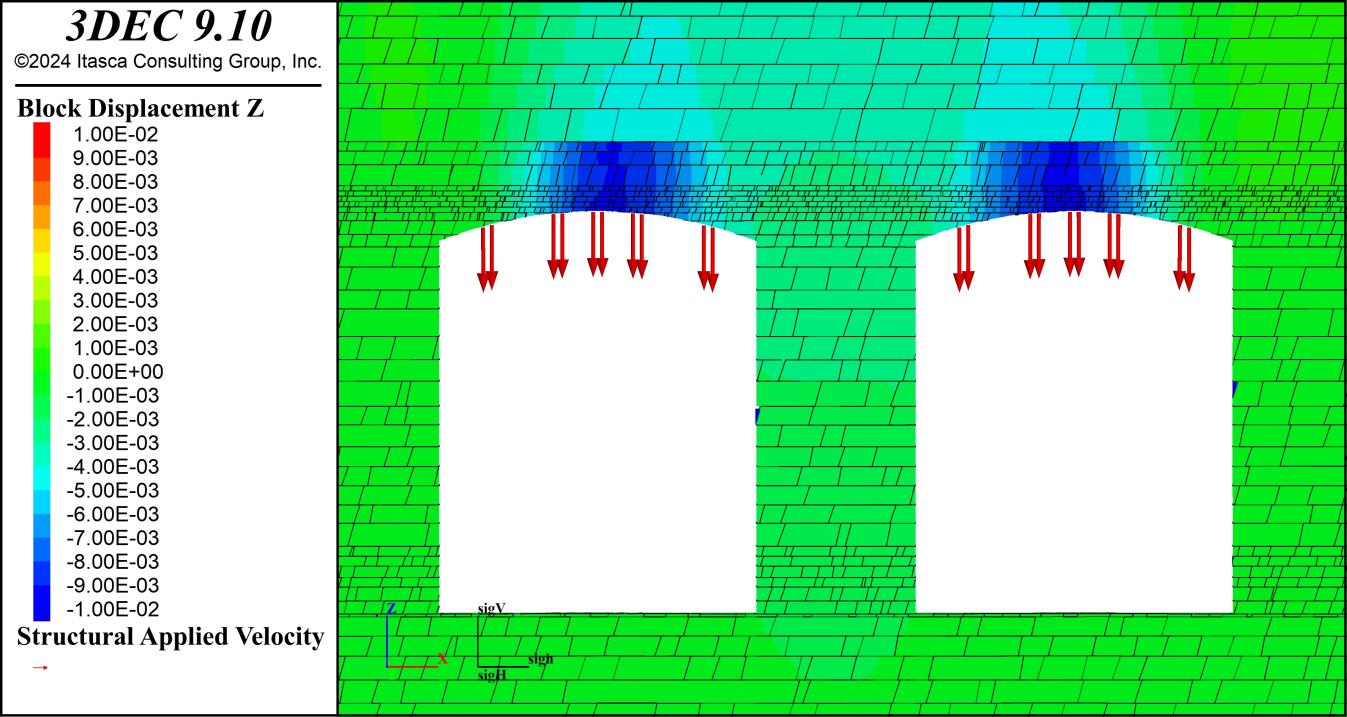crown: (1043, 176, 1116, 208), (558, 181, 639, 207)
label: (5, 3, 333, 714)
tunnel-opening: (914, 212, 1234, 612), (442, 212, 754, 611)
